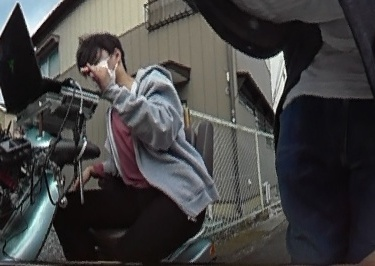person: (57, 33, 208, 262)
